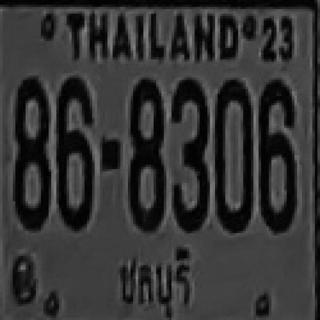N00: (128, 75, 161, 146), (18, 75, 51, 146)
P13: (107, 246, 199, 315)
